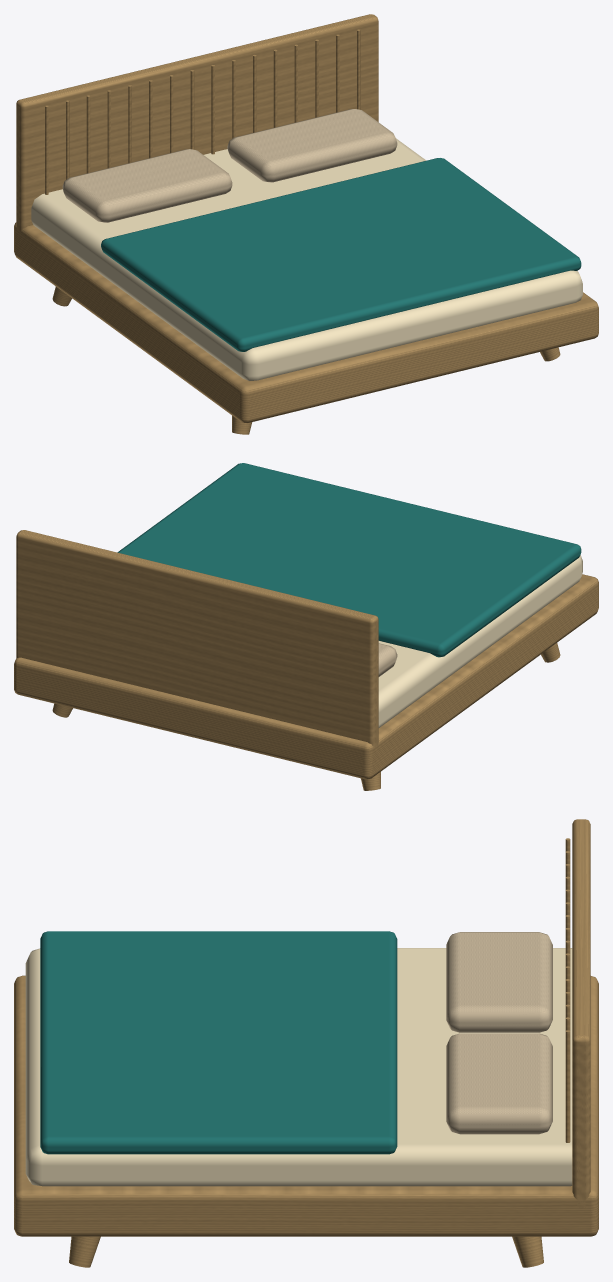
File: bed_king_veranda-56f2be417866.glb
3 views of the same model, one above another, from view 1: azimuth 30°, elevation 25°; view 2: azimuth 150°, elevation 25°; view 3: azimuth 270°, elevation 25° (orthographic). The views are drawn at different scales.
Visible parts, largest first — view 1: surface_bamboo, surface_teal, surface_ivory, surface_linen; view 2: surface_bamboo, surface_teal, surface_ivory, surface_linen; view 3: surface_teal, surface_bamboo, surface_ivory, surface_linen.
Part boxes in pixels (left/top/right/bottom): surface_bamboo: left=14, top=14, right=598, bottom=434; surface_teal: left=101, top=158, right=581, bottom=351; surface_ivory: left=31, top=138, right=582, bottom=380; surface_linen: left=62, top=109, right=397, bottom=222; surface_bamboo: left=14, top=530, right=598, bottom=790; surface_teal: left=117, top=463, right=581, bottom=657; surface_ivory: left=378, top=555, right=582, bottom=727; surface_linen: left=378, top=643, right=397, bottom=676; surface_teal: left=40, top=931, right=397, bottom=1154; surface_bamboo: left=14, top=819, right=598, bottom=1267; surface_ivory: left=25, top=948, right=572, bottom=1186; surface_linen: left=446, top=932, right=552, bottom=1134.
Bounding box in the file's own units: 1.81 × 0.9378 × 2.03.
4 materials, 2 textured.
